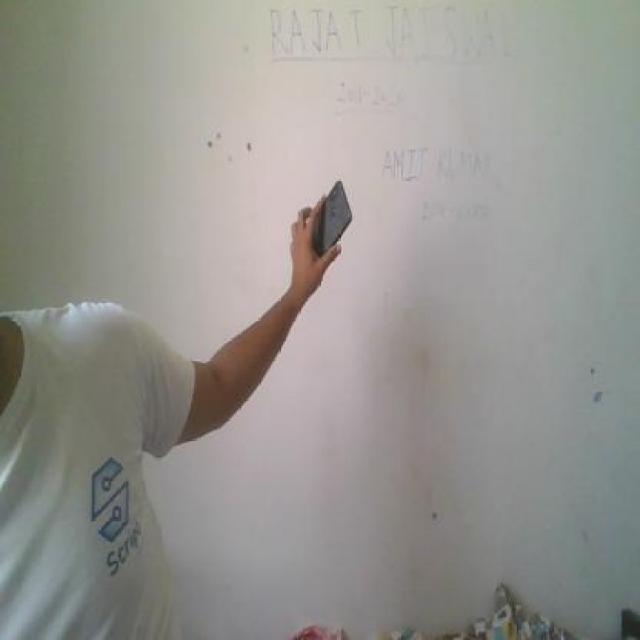Phone: (304, 172, 354, 259)
